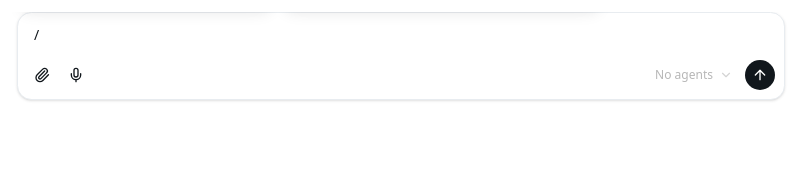
Composer slash-command menu › Tab completes the highlighted skill into the textarea
This screenshot has width=803, height=172.
Note: "/des" narrows to the "deslop" skill (built-ins don't match "des").
Replace the text in the text box named "Message the agent" with "/des". click: (401, 33)
box: [18,13,784,53]
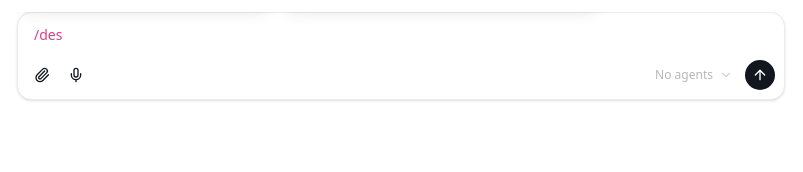
Press Tab in the text box named "Message the agent", box [18,13,784,53]
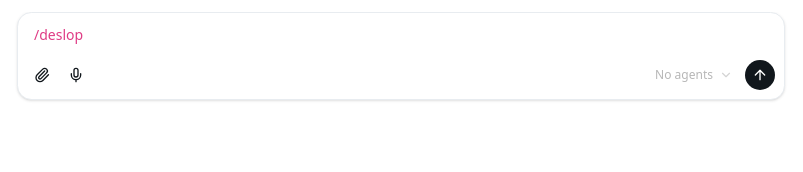
Expected: the text box named "Message the agent" holds "/deslop ", [18,13,784,53]
